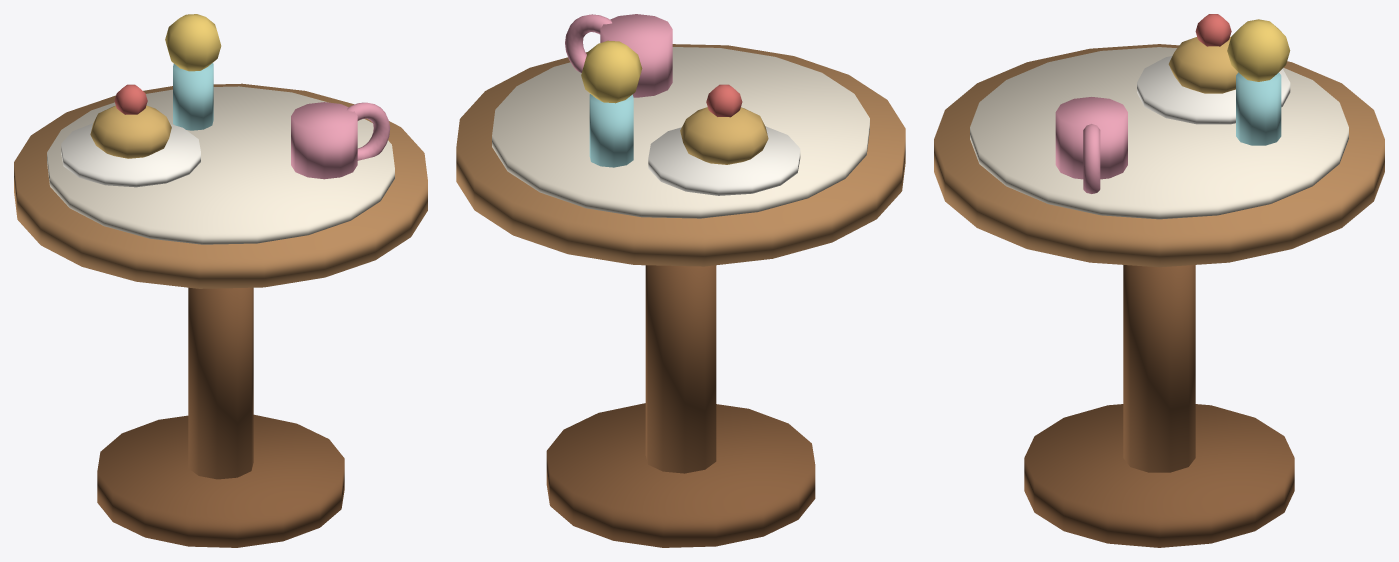
The model's file is table.glb.
3 renders of one model, left to right at view 1: azimuth 30°, elevation 25°; view 2: azimuth 150°, elevation 25°; view 3: azimuth 270°, elevation 25°, orthographic. The views are drawn at different scales.
Parts seen in each view (by area): view 1: table; view 2: table; view 3: table.
Boxes of the visible parts, x1,y1,x2,y2 form: table: (14,14,427,547); table: (456,14,905,547); table: (934,14,1384,547).
Size of the model in its own units: 1 by 1.17 by 1.
